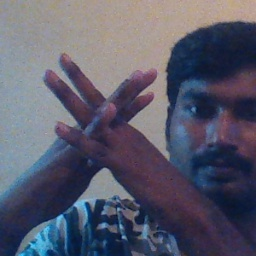W: (32, 49, 175, 209)
